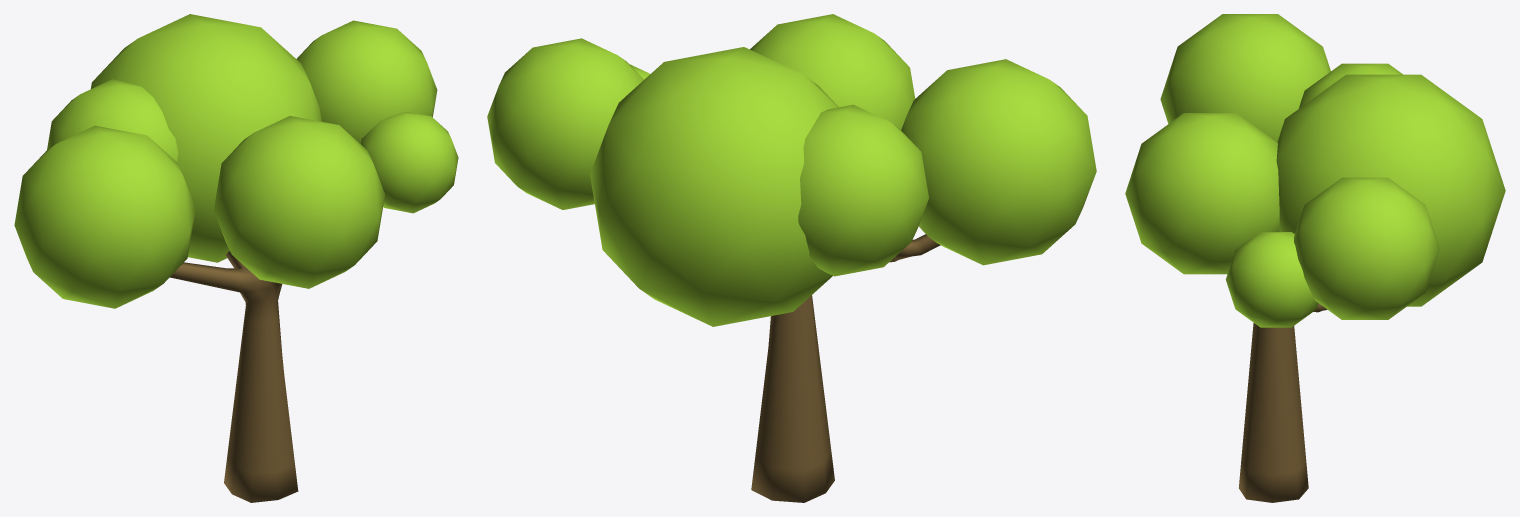
The model's file is Tree1.glb.
3 views of the same model, side by side, from view 1: azimuth 30°, elevation 25°; view 2: azimuth 150°, elevation 25°; view 3: azimuth 270°, elevation 25° (orthographic). The views are drawn at different scales.
Visible parts, largest first — view 1: Tree; view 2: Tree; view 3: Tree.
Boxes of the visible parts, box(x1,y1,x2,y2) form: Tree: box(14, 14, 458, 502); Tree: box(487, 14, 1096, 502); Tree: box(1125, 14, 1505, 502).
Bounding box in the file's own units: 7.08 × 6.25 × 5.28.
